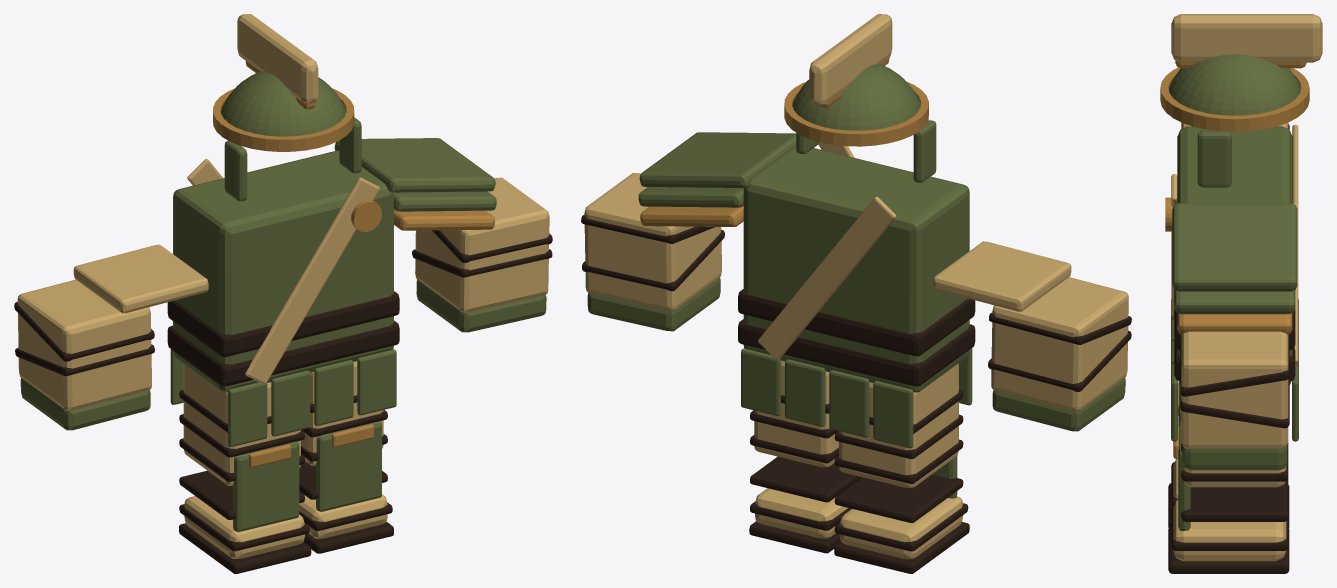
Rendered from SkirmisherArmorSet.ready.glb.
3 views of the same model, side by side, from view 1: azimuth 30°, elevation 25°; view 2: azimuth 150°, elevation 25°; view 3: azimuth 270°, elevation 25° (orthographic). The views are drawn at different scales.
Visible parts, largest first — view 1: Chestplate, RightLowerArm, LeftLowerArm, Helmet, RightBoots, LeftBoots, LeftUpperArm, RightUpperArm, RightLeggings, LeftLeggings; view 2: Chestplate, RightLowerArm, LeftLowerArm, Helmet, RightBoots, LeftUpperArm, LeftBoots, RightLeggings, RightUpperArm, LeftLeggings; view 3: Helmet, LeftUpperArm, LeftLowerArm, LeftBoots, Chestplate, LeftLeggings, RightBoots.
Boxes of the visible parts, left/top/right/bottom form: Chestplate: left=167, top=150, right=399, bottom=446; RightLowerArm: left=14, top=279, right=154, bottom=430; LeftLowerArm: left=412, top=177, right=552, bottom=332; Helmet: left=213, top=14, right=361, bottom=201; RightBoots: left=179, top=438, right=311, bottom=573; LeftBoots: left=299, top=421, right=393, bottom=553; LeftUpperArm: left=334, top=138, right=496, bottom=230; RightUpperArm: left=73, top=244, right=208, bottom=313; RightLeggings: left=179, top=364, right=304, bottom=485; LeftLeggings: left=301, top=361, right=387, bottom=465; Chestplate: left=738, top=142, right=975, bottom=448; RightLowerArm: left=988, top=277, right=1131, bottom=431; LeftLowerArm: left=581, top=173, right=724, bottom=331; Helmet: left=784, top=14, right=936, bottom=182; RightBoots: left=834, top=439, right=969, bottom=573; LeftUpperArm: left=638, top=132, right=796, bottom=226; LeftBoots: left=749, top=435, right=861, bottom=553; RightLeggings: left=834, top=363, right=963, bottom=488; RightUpperArm: left=933, top=241, right=1071, bottom=311; LeftLeggings: left=750, top=360, right=838, bottom=467; Helmet: left=1160, top=14, right=1322, bottom=187; LeftUpperArm: left=1172, top=203, right=1297, bottom=334; LeftLowerArm: left=1180, top=331, right=1289, bottom=470; LeftBoots: left=1168, top=422, right=1289, bottom=573; Chestplate: left=1165, top=124, right=1298, bottom=441; LeftLeggings: left=1181, top=442, right=1288, bottom=487; RightBoots: left=1168, top=382, right=1289, bottom=527.
Size of the model in its own units: 5.91 by 5.67 by 1.61.
Materials: 1 (1 with a texture image).
